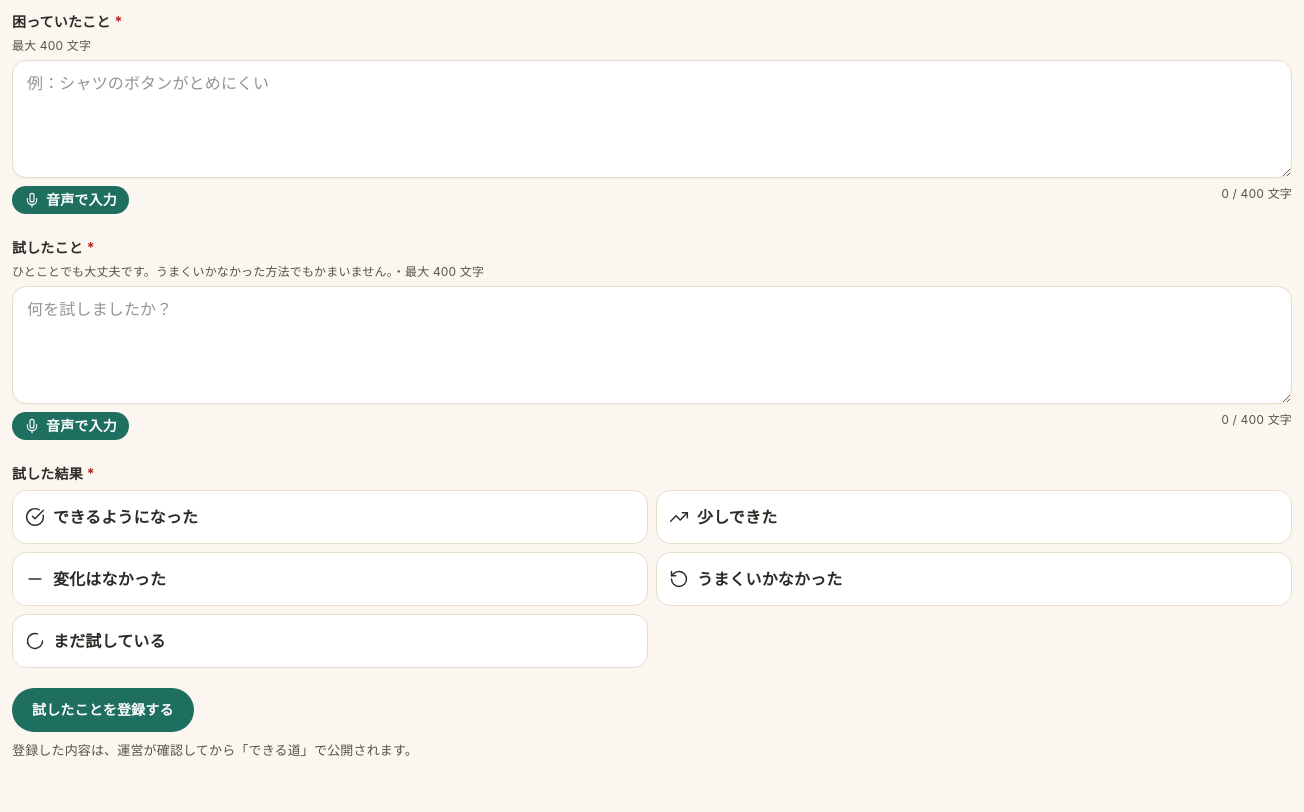
Scenario: 簡易登録フォーム（/try） › 完了画面の「もう1件教える」で、困っていたことを残したままフォームに戻る
Type "瓶のフタが開けにくい" into the text box labelled "困っていたこと". click: (652, 119)
box: [12,60,1292,178]
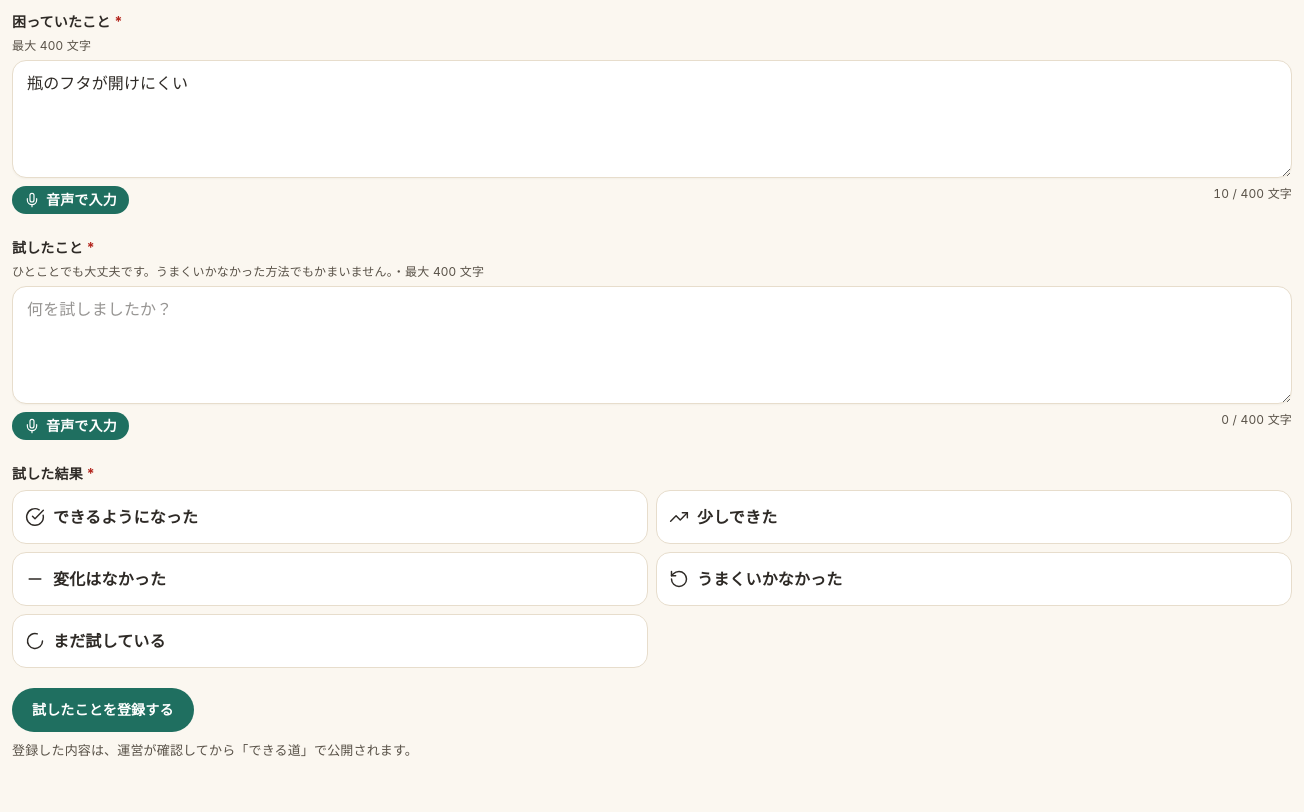
Type "ゴムシートを使った" into the text box labelled "試したこと". click: (652, 345)
box: [12,286,1292,404]
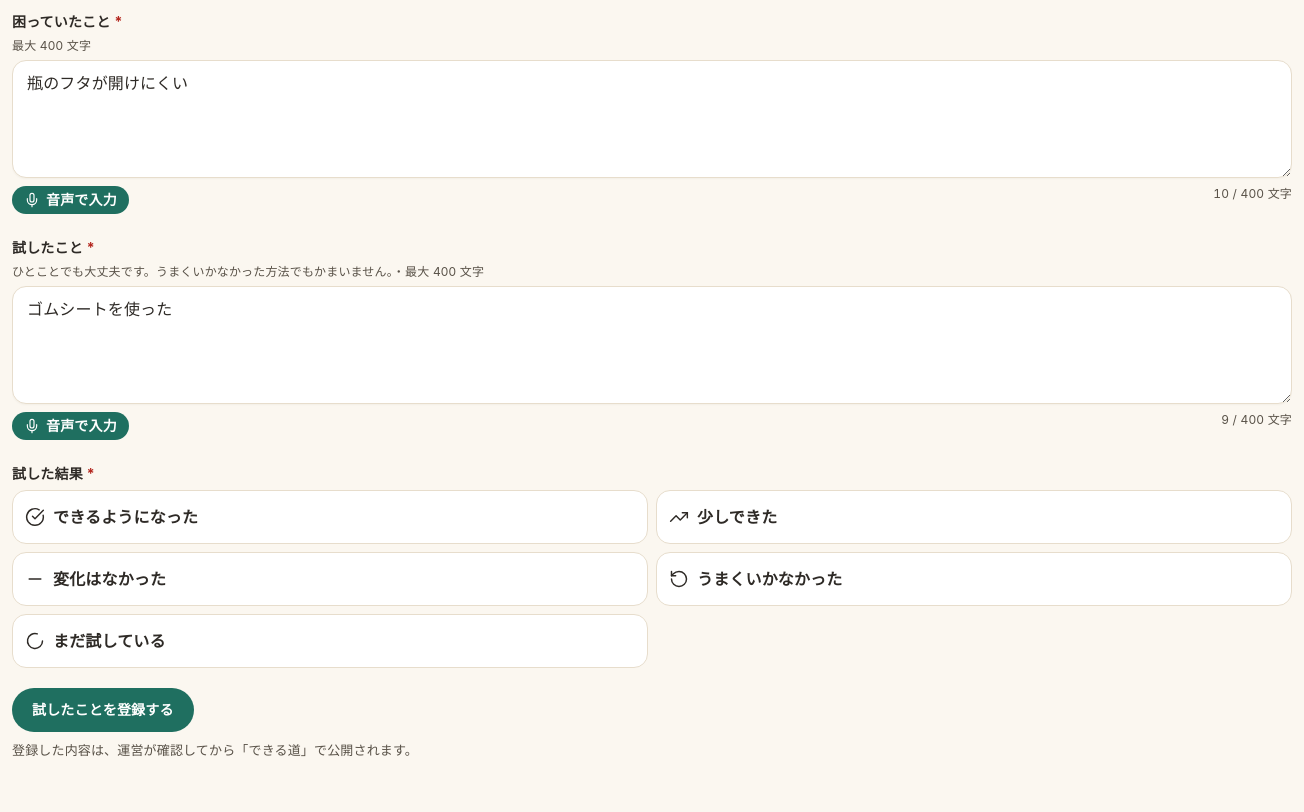
Click the radio button labelled "少しできた". click: (737, 517)
box: [656,490,1292,544]
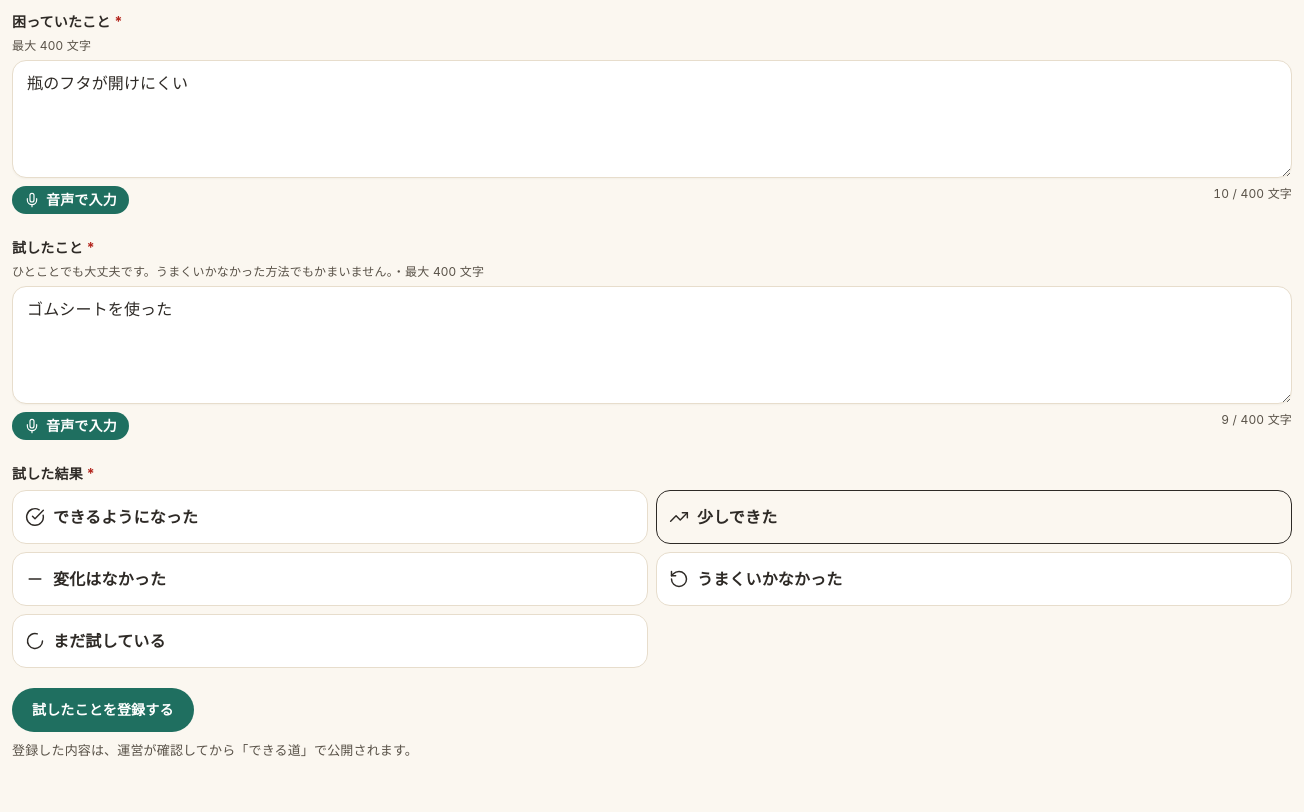
Click the button "試したことを登録する". click: (103, 710)
box: [12,688,194,732]
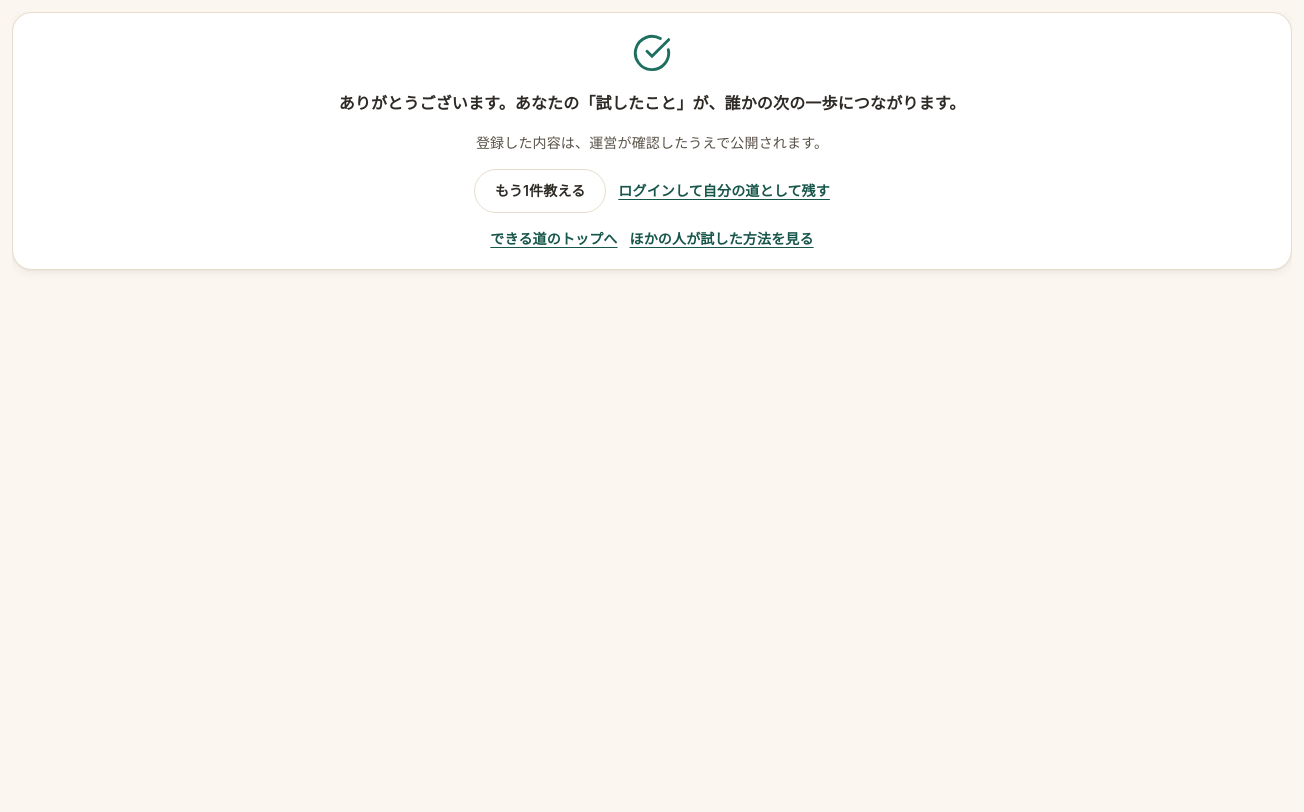
Click the button "もう1件教える". click: (540, 191)
box: [474,169,606,213]
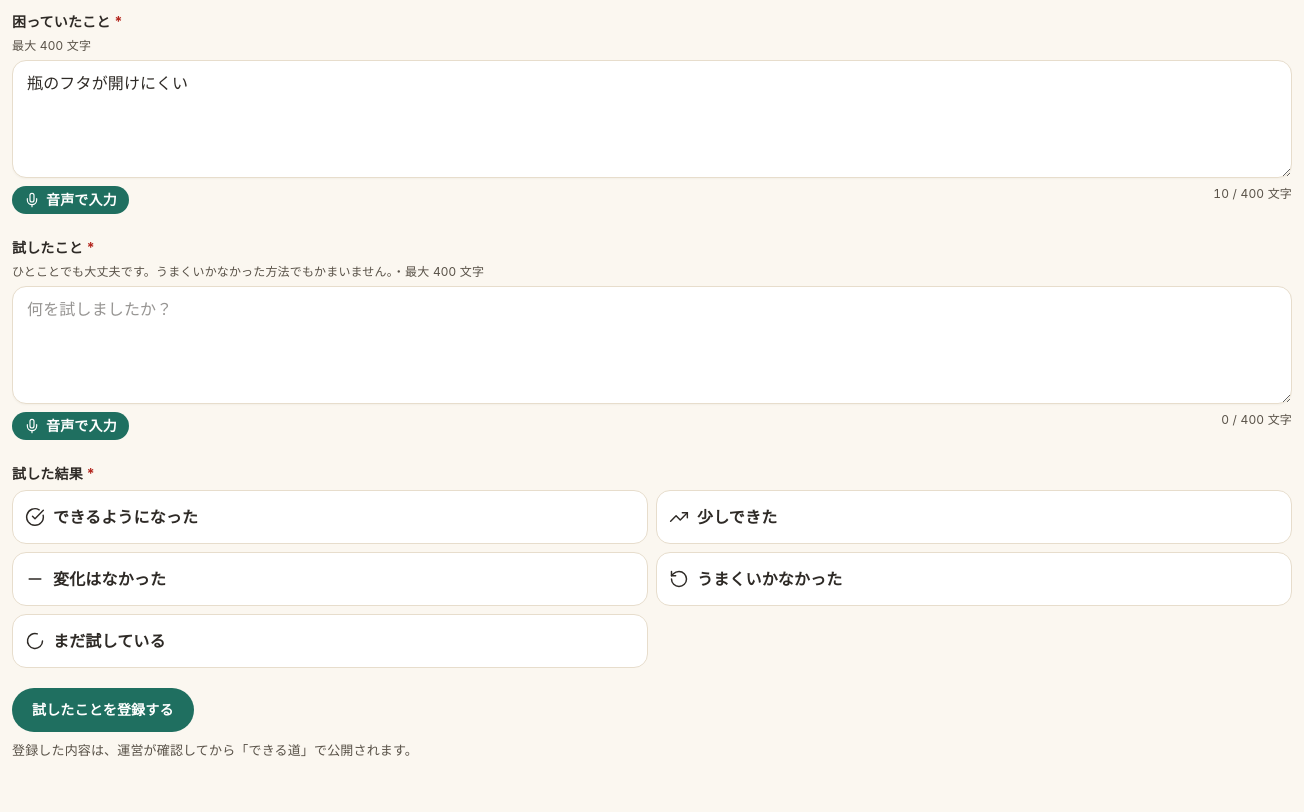
Now the text box labelled "困っていたこと" holds "瓶のフタが開けにくい", box [12,60,1292,178]
Now the text box labelled "試したこと" is empty, box [12,286,1292,404]
